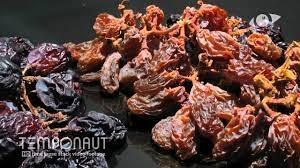Grape Rotten: (1, 0, 299, 167)
